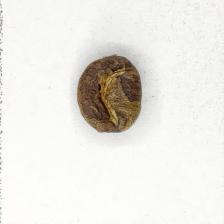NG: (79, 55, 141, 132)
